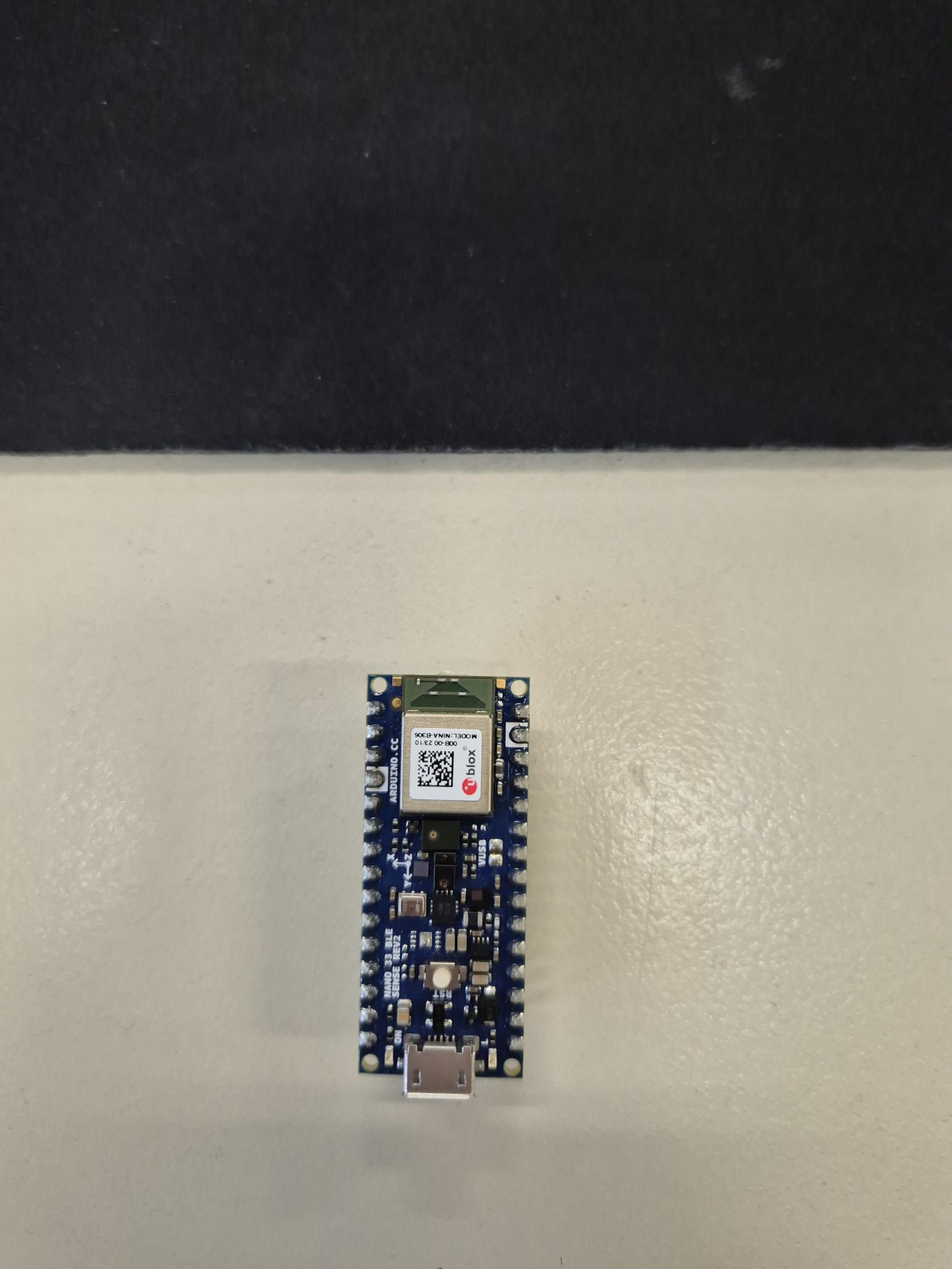arduino-nano-ble-sense: (361, 675, 529, 1097)
